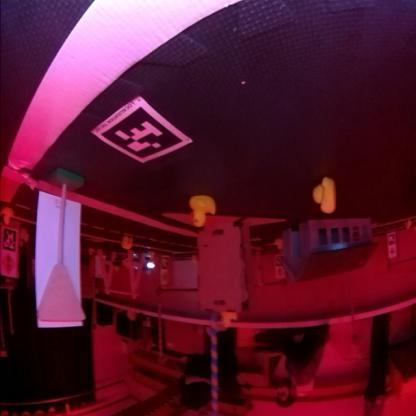Duckie: (314, 178, 336, 214), (192, 197, 216, 228), (221, 312, 238, 328), (4, 209, 14, 225), (123, 238, 133, 249)
QR code: (96, 102, 188, 164), (2, 230, 20, 252)
